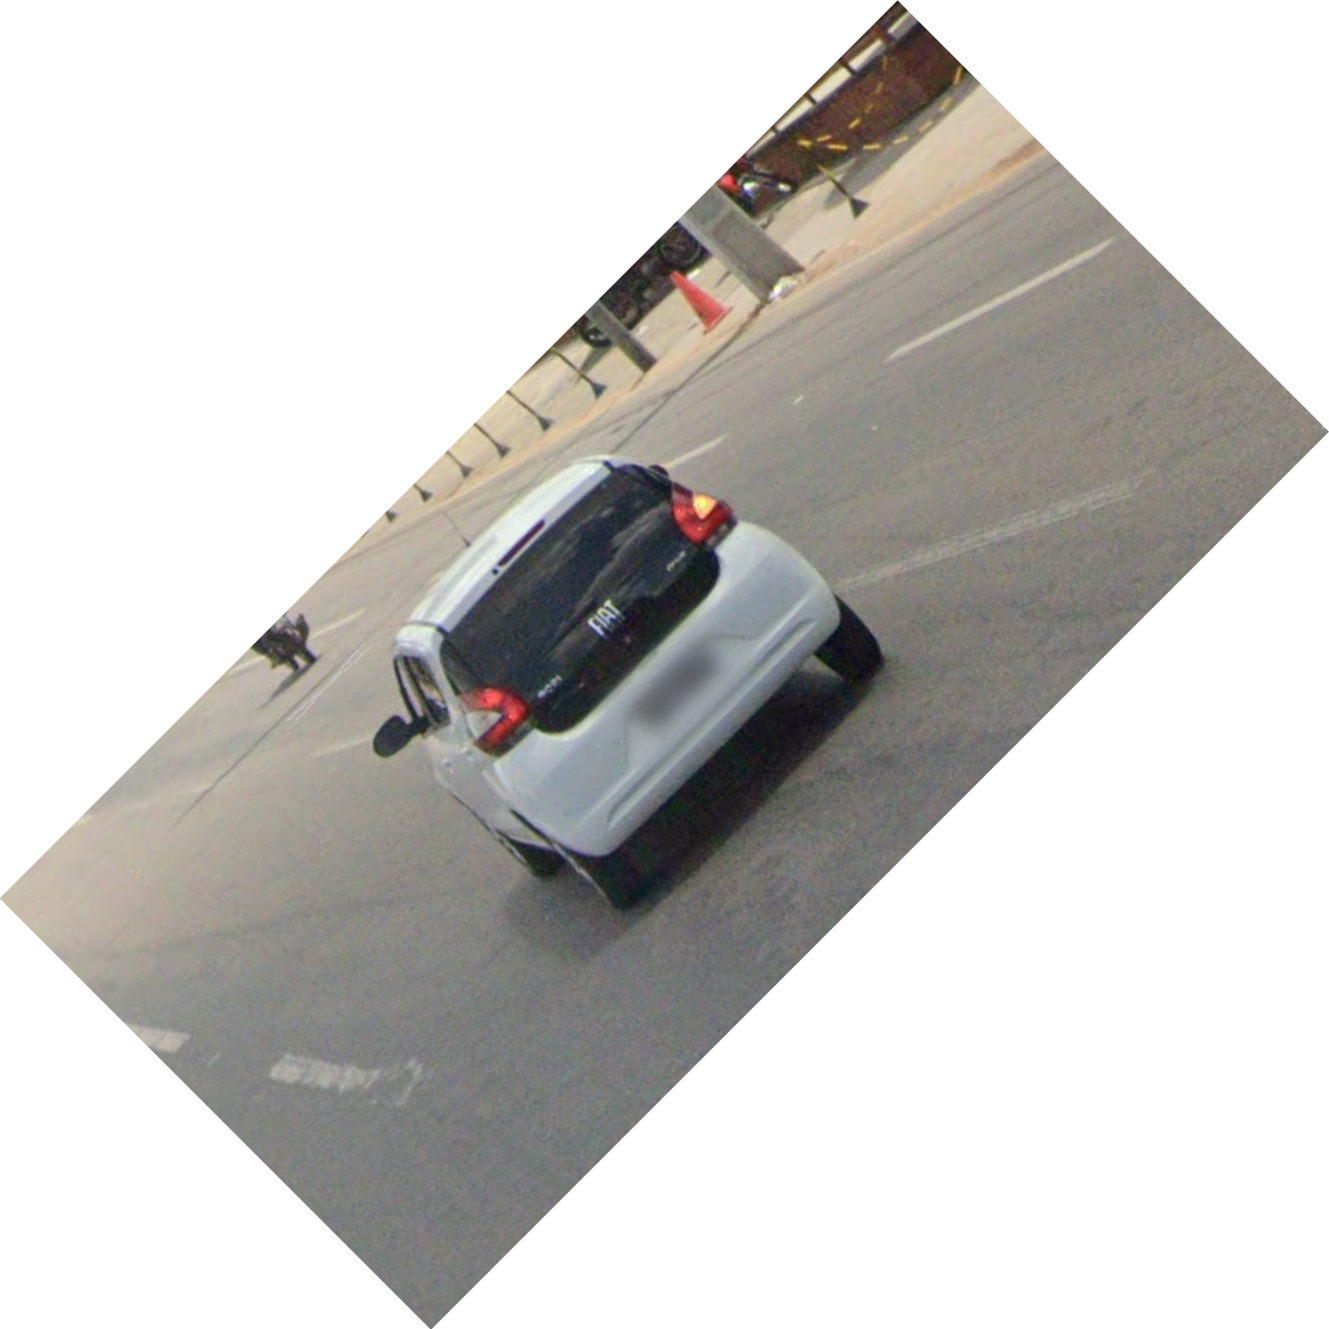car: (340, 445, 913, 931)
